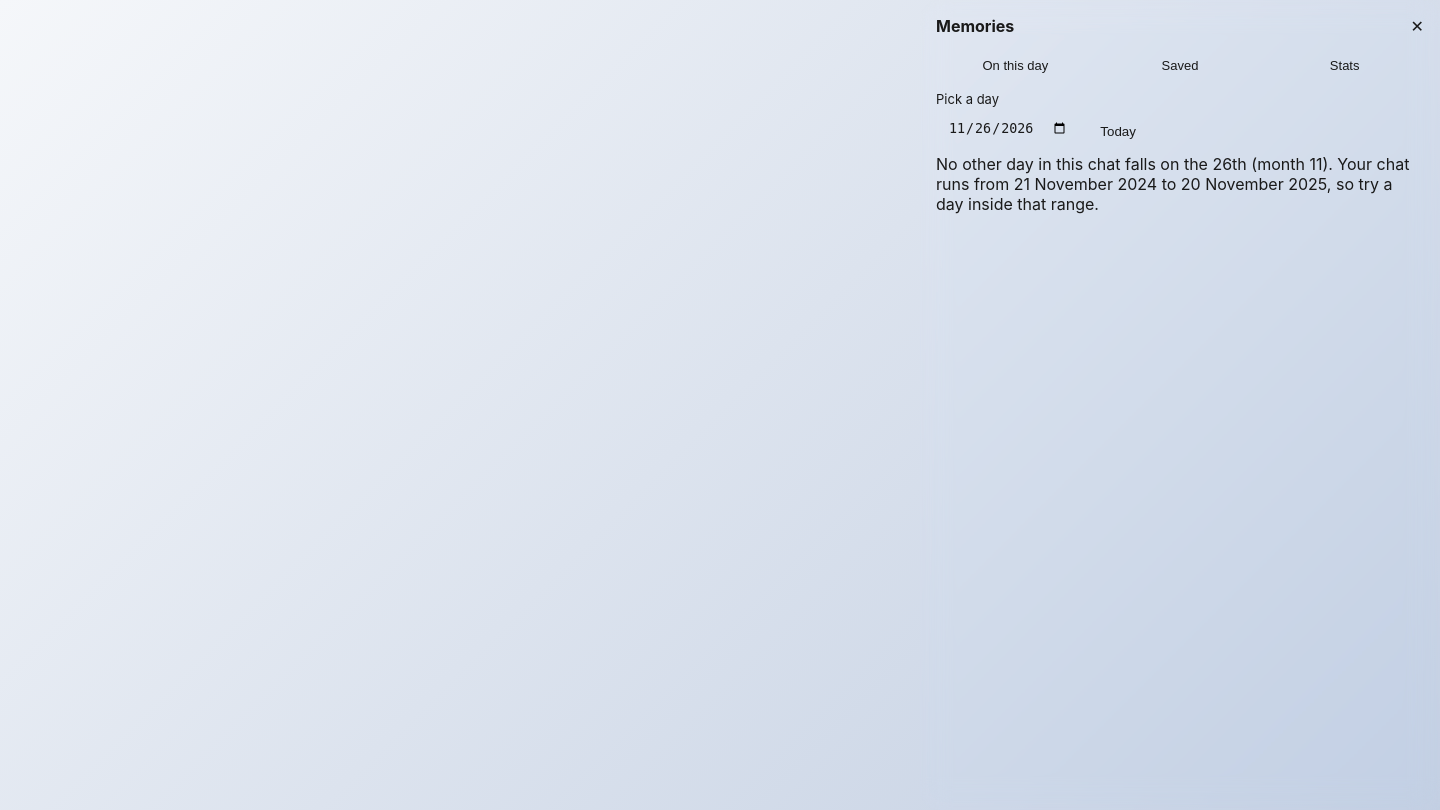
Test: Saved › tells you how to save something when the list is empty
Click the tab "Saved": (1180, 66) [1101,50,1259,81]
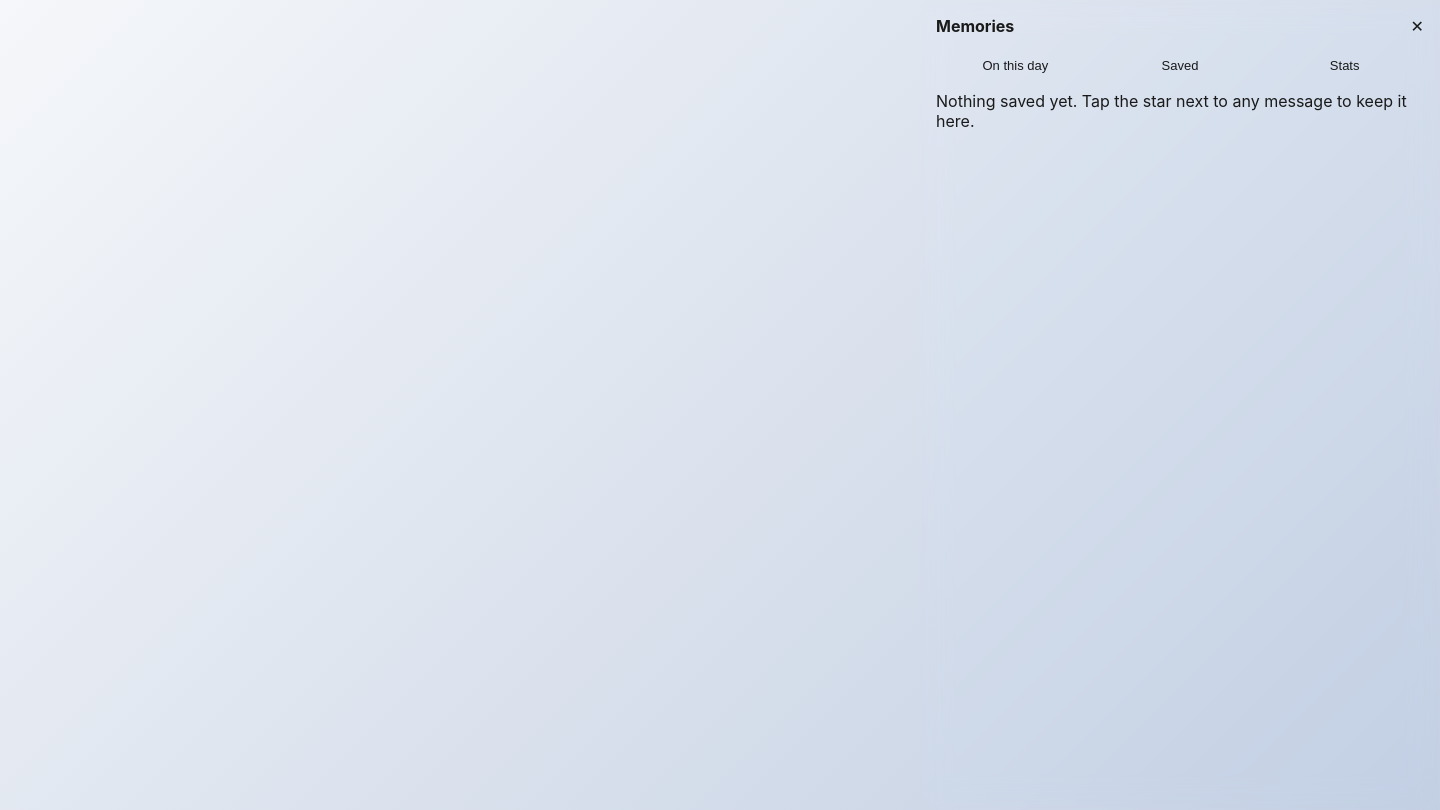
expect the text "Tap the star next to any message" is shown: met, box [936,91,1407,131]
